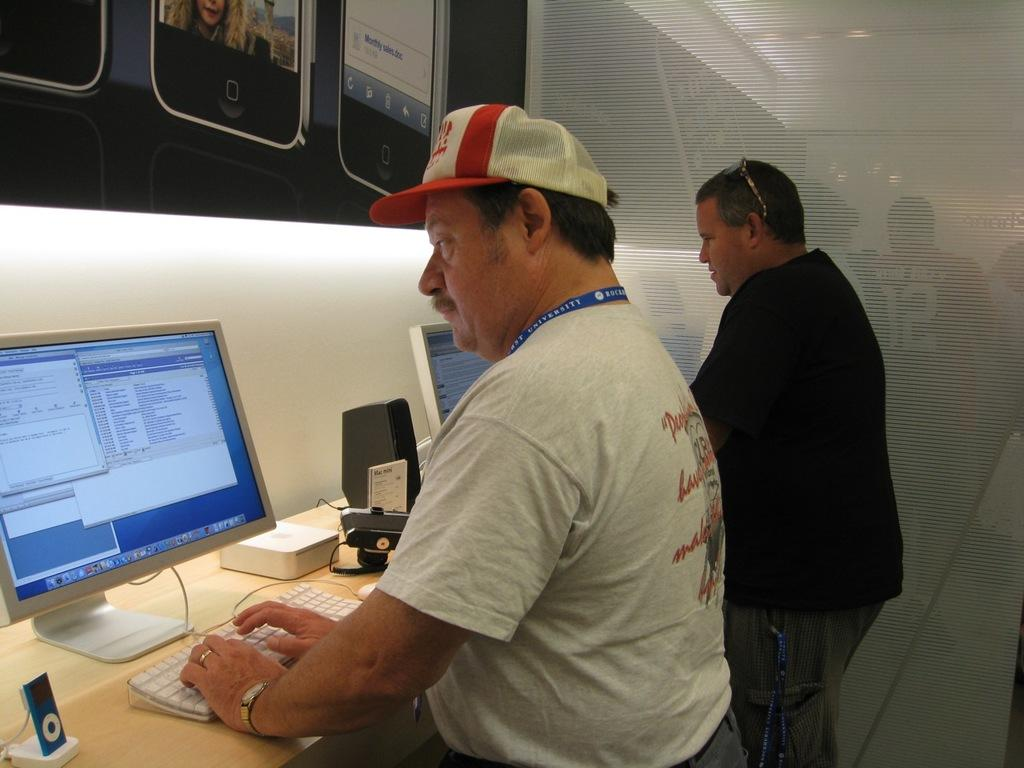Computer-monitor: (0, 317, 282, 668), (406, 321, 506, 450)
